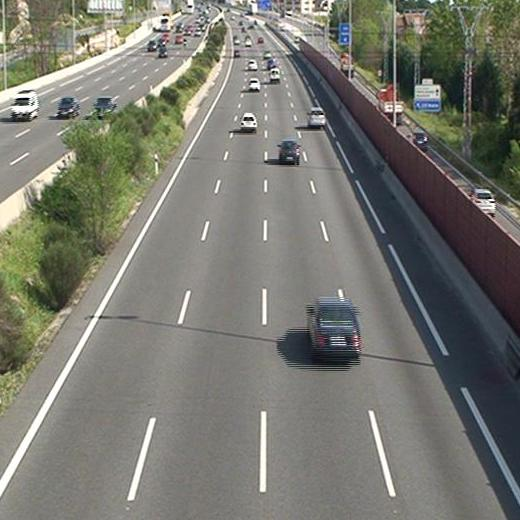car: (308, 300, 360, 360), (279, 139, 299, 163), (308, 106, 325, 127), (240, 113, 258, 130), (248, 79, 260, 92), (247, 58, 257, 69), (266, 58, 276, 66)
van: (269, 69, 280, 82)
